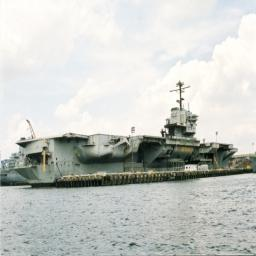Portanaves: (14, 78, 241, 192)
